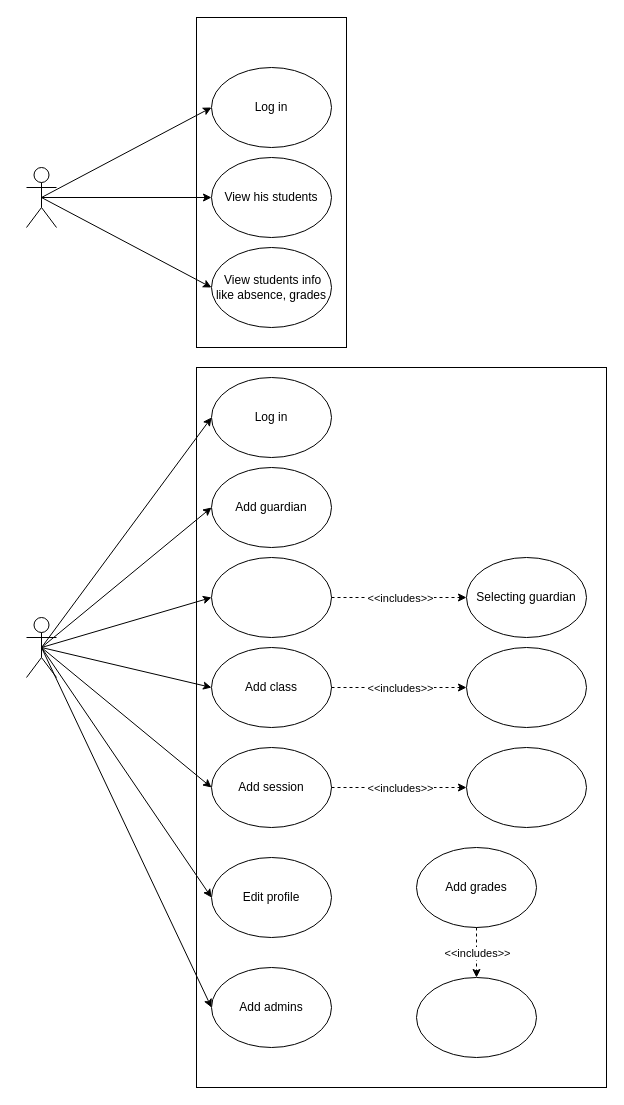
This 624x1105 diagram has some shape labels left out. Each missing label, with the centre of its shape:
"Add student" goes at (271,597).
"Admin" goes at (41,647).
"Guardian" goes at (41,197).
"Selecting class and present students" goes at (526,787).
"Selecting session and the present student" goes at (476,1017).
"Selecting students" goes at (526,687).
